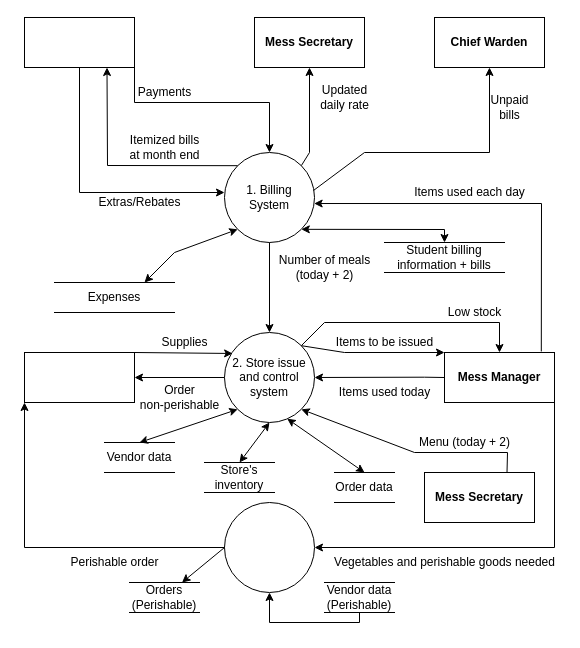
Image size: 580x648. Some labels were removed from this diagram. Here are the shapes that lost their labels. From the top down, the box of each, then its label:
(24, 16, 134, 68): Students
(24, 352, 134, 402): Vendors
(224, 502, 314, 592): 3. Perishable ordering
